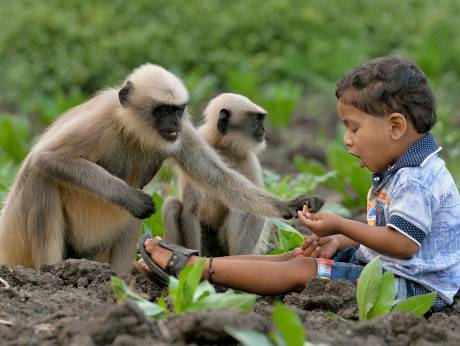langur: (2, 54, 211, 271), (159, 90, 273, 264)
person: (138, 54, 459, 280)
